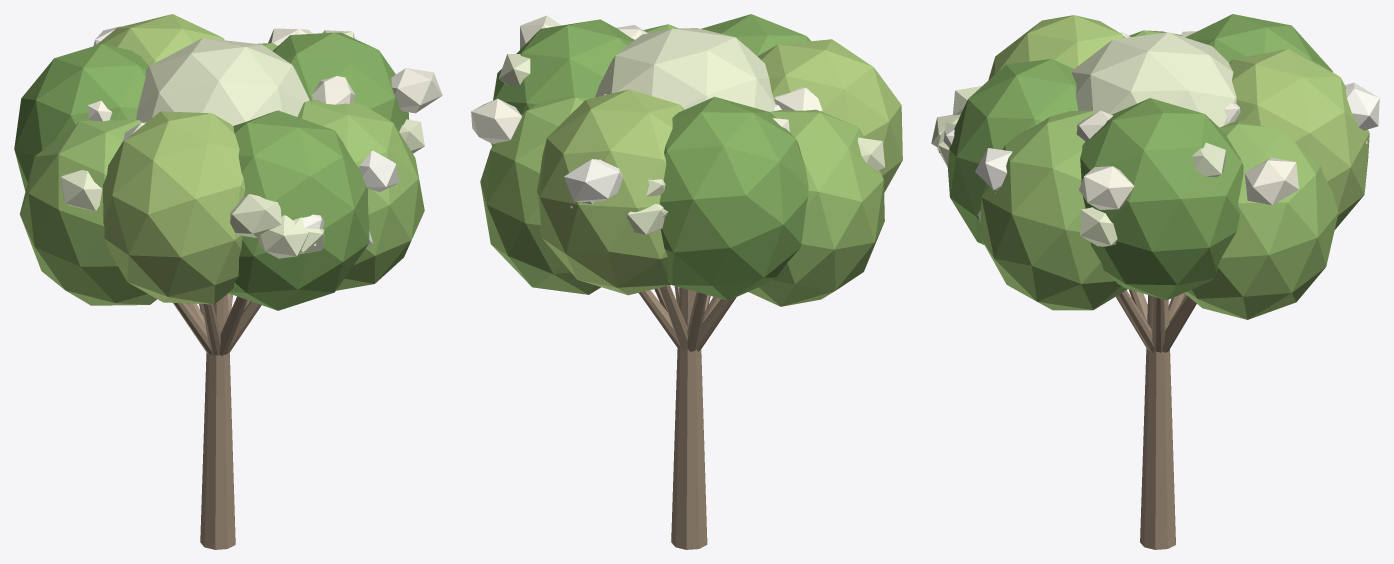
The model's file is SIMUS_FringeTree.glb.
3 views of the same model, side by side, from view 1: azimuth 30°, elevation 25°; view 2: azimuth 150°, elevation 25°; view 3: azimuth 270°, elevation 25° (orthographic). The views are drawn at different scales.
Visible parts, largest first — view 1: FringeTree Leaf green 0, FringeTree Leaf green 2, FringeTree Leaf green 1, FringeTree Fringe blossom 2, FringeTree Young bark, FringeTree Fringe blossom 0, FringeTree Fringe blossom 1; view 2: FringeTree Leaf green 0, FringeTree Leaf green 2, FringeTree Leaf green 1, FringeTree Fringe blossom 2, FringeTree Young bark, FringeTree Fringe blossom 0, FringeTree Fringe blossom 1; view 3: FringeTree Leaf green 0, FringeTree Leaf green 1, FringeTree Leaf green 2, FringeTree Fringe blossom 2, FringeTree Young bark, FringeTree Fringe blossom 0, FringeTree Fringe blossom 1.
Boxes of the visible parts, box(x1,y1,x2,y2) form: FringeTree Leaf green 0: box(14, 32, 409, 310); FringeTree Leaf green 2: box(96, 14, 245, 304); FringeTree Leaf green 1: box(20, 43, 424, 305); FringeTree Fringe blossom 2: box(60, 30, 424, 258); FringeTree Young bark: box(173, 293, 261, 549); FringeTree Fringe blossom 0: box(87, 28, 442, 143); FringeTree Fringe blossom 1: box(93, 26, 398, 246); FringeTree Leaf green 0: box(491, 14, 810, 300); FringeTree Leaf green 2: box(537, 39, 902, 295); FringeTree Leaf green 1: box(480, 24, 884, 306); FringeTree Fringe blossom 2: box(498, 28, 885, 234); FringeTree Young bark: box(639, 285, 736, 549); FringeTree Fringe blossom 0: box(471, 15, 822, 144); FringeTree Fringe blossom 1: box(564, 104, 781, 208); FringeTree Leaf green 0: box(947, 14, 1332, 300); FringeTree Leaf green 1: box(980, 30, 1338, 319); FringeTree Leaf green 2: box(988, 15, 1369, 229); FringeTree Fringe blossom 2: box(931, 32, 1236, 246); FringeTree Young bark: box(1116, 289, 1196, 549); FringeTree Fringe blossom 0: box(1076, 31, 1298, 209); FringeTree Fringe blossom 1: box(939, 82, 1379, 222).
Size of the model in its own units: 3.79 by 4.79 by 3.88.
